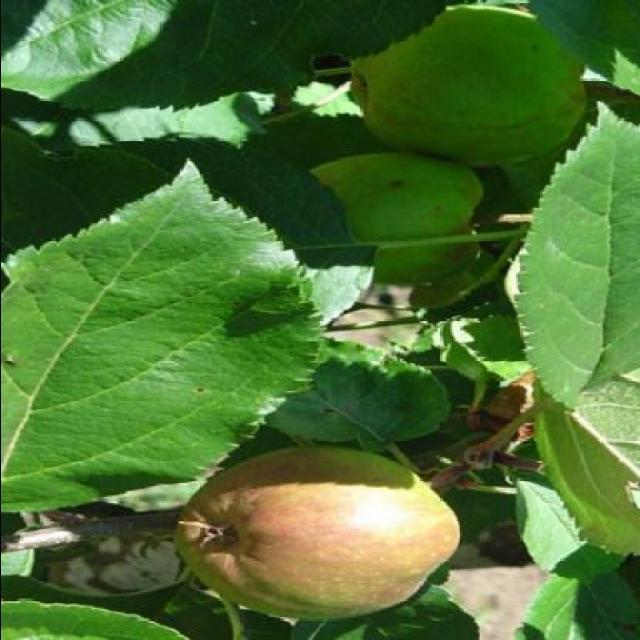Peach: (168, 442, 460, 622), (347, 3, 590, 172), (306, 152, 488, 283)
